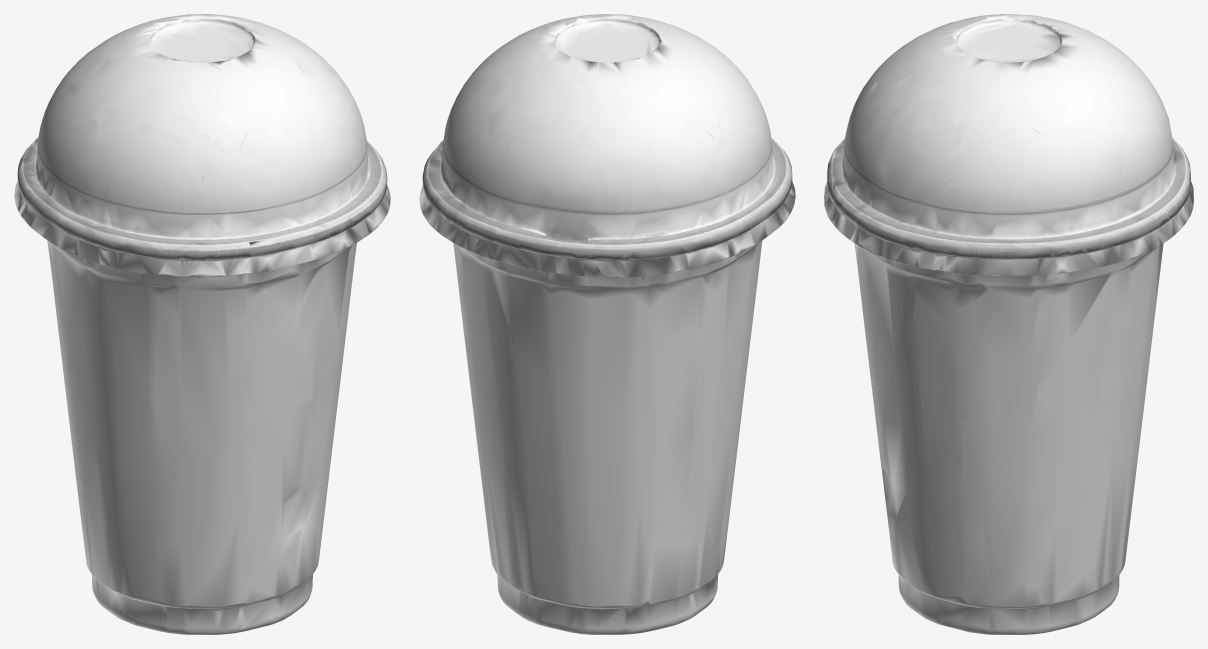
File: cup-hot-takeaway.glb
3 views of the same model, side by side, from view 1: azimuth 30°, elevation 25°; view 2: azimuth 150°, elevation 25°; view 3: azimuth 270°, elevation 25° (orthographic).
Visible parts, largest first — view 1: Mesh_0; view 2: Mesh_0; view 3: Mesh_0.
Part boxes in pixels (x1,y1,x2,y2): Mesh_0: [14, 14, 390, 634]; Mesh_0: [419, 14, 795, 634]; Mesh_0: [824, 14, 1193, 634].
Size of the model in its own units: 1.16 by 1.91 by 1.16.
Materials: 1 (1 with a texture image).
